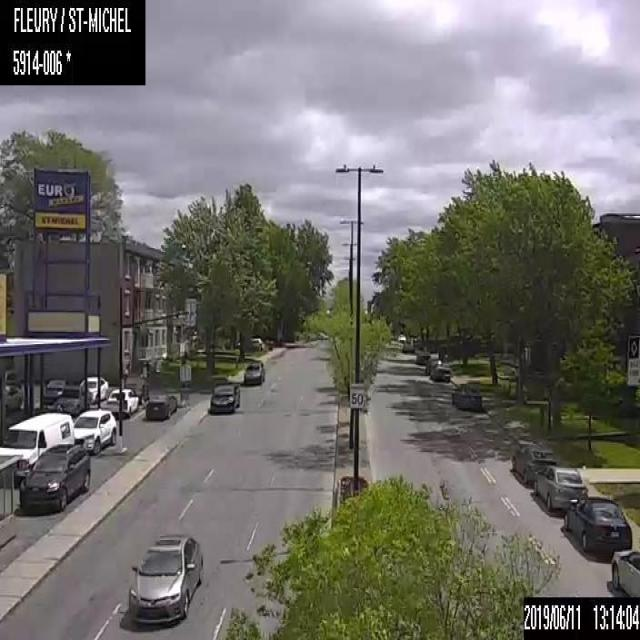vehicle: (127, 531, 204, 621), (2, 410, 76, 480), (561, 489, 633, 560), (19, 440, 91, 510), (532, 460, 588, 515), (70, 408, 116, 456), (508, 439, 552, 484), (608, 546, 639, 594), (50, 383, 89, 415), (207, 380, 240, 413), (143, 392, 180, 421), (106, 386, 140, 416), (449, 380, 481, 408), (79, 373, 108, 402), (43, 377, 69, 404), (242, 359, 265, 384), (431, 363, 451, 383), (424, 356, 442, 375), (246, 336, 264, 353), (413, 348, 430, 365)
